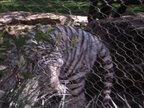Tigre: (18, 25, 123, 102)
